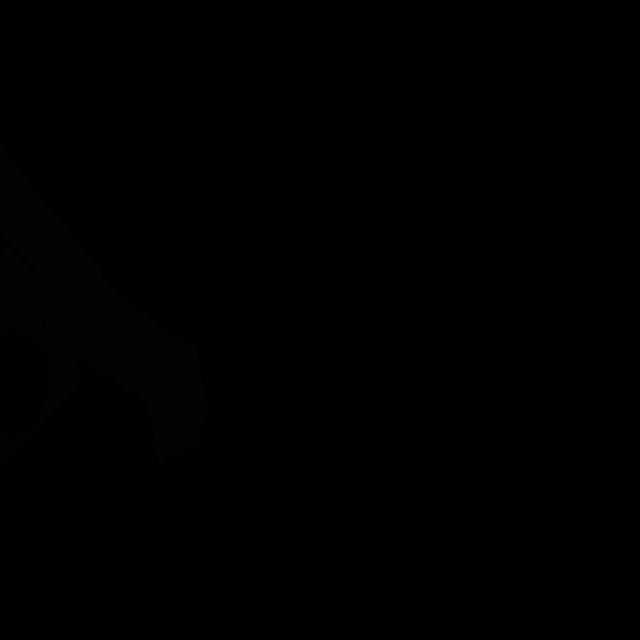cardboard: (0, 144, 206, 465), (0, 249, 84, 469)
rigid_plastic: (0, 330, 48, 438)
